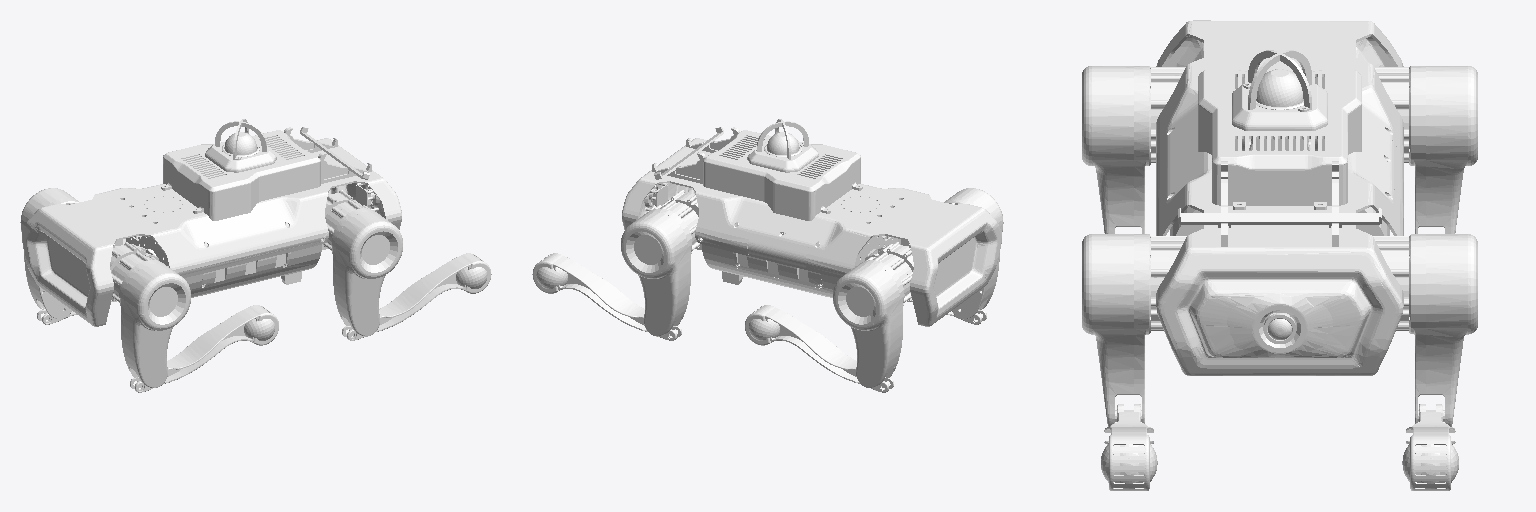
--- Facts derived from the render (not from the file) ---
The picture shows the robot from 3 angles, left to right: view 1: azimuth 30°, elevation 25°; view 2: azimuth 150°, elevation 25°; view 3: azimuth 270°, elevation 25°; orthographic projection.
Model robot with 18 links and 17 joints (12 revolute, 5 fixed), rooted at base, posed all joints at 0 but 4 set to mid-range because 0 is outside their limits (RF_KFE = -1.77, LF_KFE = -1.77, RH_KFE = -1.77, LH_KFE = -1.77).
Visible links, largest first — view 1: base, RH_thigh, RF_thigh, RH_calf, RF_calf, LH_thigh, RF_FOOT, RH_FOOT; view 2: base, LH_thigh, LF_thigh, LH_calf, LF_calf, RH_thigh, LF_FOOT, LH_FOOT; view 3: base, RF_thigh, LF_thigh, RH_thigh, LH_thigh, RF_calf, LF_calf, RF_FOOT, LF_FOOT.
Link boxes in pixels (x1,y1,x2,y2): base: (22,119,401,326); RH_thigh: (111,252,190,387); RF_thigh: (323,200,402,336); RH_calf: (130,305,278,392); RF_calf: (342,253,491,340); LH_thigh: (20,188,78,318); RF_FOOT: (456,257,487,288); RH_FOOT: (244,309,274,340); base: (622,119,1001,326); LH_thigh: (833,252,912,387); LF_thigh: (621,200,700,336); LH_calf: (745,305,893,392); LF_calf: (532,253,681,340); RH_thigh: (944,188,1003,319); LF_FOOT: (536,257,567,288); LH_FOOT: (749,309,779,340); base: (1156,20,1403,375); RF_thigh: (1082,234,1186,426); LF_thigh: (1373,234,1477,426); RH_thigh: (1082,66,1185,233); LH_thigh: (1374,66,1477,233); RF_calf: (1104,404,1153,490); LF_calf: (1406,404,1455,490); RF_FOOT: (1101,443,1157,488); LF_FOOT: (1402,443,1458,488).
Size in the robot's own frame: 0.5916 by 0.3271 by 0.2934 metres.
13 mesh visuals loaded from 6 distinct referenced files (6 binary STL).

The robot description file, URDF, robot "robot":
<?xml version="1.0" ?>
<!-- =================================================================================== -->
<!-- |    This document was autogenerated by xacro from robot_sim.xacro                | -->
<!-- |    EDITING THIS FILE BY HAND IS NOT RECOMMENDED                                 | -->
<!-- =================================================================================== -->
<robot name="robot">
  <material name="black">
    <color rgba="0.0 0.0 0.0 1.0"/>
  </material>
  <material name="blue">
    <color rgba="0.0 0.0 0.8 1.0"/>
  </material>
  <material name="green">
    <color rgba="0.0 0.8 0.0 1.0"/>
  </material>
  <material name="grey">
    <color rgba="0.2 0.2 0.2 1.0"/>
  </material>
  <material name="silver">
    <color rgba="0.9137254901960784 0.9137254901960784 0.8470588235294118 1.0"/>
  </material>
  <material name="orange">
    <color rgba="1.0 0.4235294117647059 0.0392156862745098 1.0"/>
  </material>
  <material name="brown">
    <color rgba="0.8705882352941177 0.8117647058823529 0.7647058823529411 1.0"/>
  </material>
  <material name="red">
    <color rgba="0.8 0.0 0.0 1.0"/>
  </material>
  <material name="white">
    <color rgba="1.0 1.0 1.0 1.0"/>
  </material>
  <!-- ros_control plugin -->
  <gazebo>
    <plugin filename="liblegged_hw_sim.so" name="gazebo_ros_control">
      <robotNamespace>/</robotNamespace>
      <robotParam>legged_robot_description</robotParam>
      <robotSimType>legged_gazebo/LeggedHWSim</robotSimType>
    </plugin>
  </gazebo>
  <gazebo>
    <plugin filename="libgazebo_ros_p3d.so" name="p3d_base_controller">
      <alwaysOn>true</alwaysOn>
      <updateRate>1000.0</updateRate>
      <bodyName>base</bodyName>
      <topicName>ground_truth/state</topicName>
      <gaussianNoise>0</gaussianNoise>
      <frameName>world</frameName>
      <xyzOffsets>0 0 0</xyzOffsets>
      <rpyOffsets>0 0 0</rpyOffsets>
    </plugin>
  </gazebo>
  <gazebo reference="base_link">
    <maxVel>100.</maxVel>
    <kp>10000.</kp>
    <kd>0.</kd>
  </gazebo>
  <gazebo reference="stick_link">
    <mu1>0.2</mu1>
    <mu2>0.2</mu2>
    <material>Gazebo/White</material>
  </gazebo>
  <!-- LF leg -->
  <gazebo reference="LF_hip">
    <mu1>0.2</mu1>
    <mu2>0.2</mu2>
    <material>Gazebo/DarkGrey</material>
  </gazebo>
  <gazebo reference="LF_thigh">
    <mu1>0.2</mu1>
    <mu2>0.2</mu2>
    <self_collide>1</self_collide>
    <material>Gazebo/DarkGrey</material>
    <kp value="1000000.0"/>
    <kd value="1.0"/>
  </gazebo>
  <gazebo reference="LF_calf">
    <mu1>0.2</mu1>
    <mu2>0.2</mu2>
    <self_collide>1</self_collide>
  </gazebo>
  <gazebo reference="LF_FOOT">
    <mu1>0.7</mu1>
    <mu2>0.7</mu2>
    <self_collide>1</self_collide>
    <material>Gazebo/DarkGrey</material>
    <kp value="50000.0"/>
    <kd value="5000.0"/>
  </gazebo>
  <!-- RF leg -->
  <gazebo reference="RF_hip">
    <mu1>0.2</mu1>
    <mu2>0.2</mu2>
    <material>Gazebo/DarkGrey</material>
  </gazebo>
  <gazebo reference="RF_thigh">
    <mu1>0.2</mu1>
    <mu2>0.2</mu2>
    <self_collide>1</self_collide>
    <material>Gazebo/DarkGrey</material>
    <kp value="1000000.0"/>
    <kd value="1.0"/>
  </gazebo>
  <gazebo reference="RF_calf">
    <mu1>0.2</mu1>
    <mu2>0.2</mu2>
    <self_collide>1</self_collide>
  </gazebo>
  <gazebo reference="RF_FOOT">
    <mu1>0.7</mu1>
    <mu2>0.7</mu2>
    <self_collide>1</self_collide>
    <material>Gazebo/DarkGrey</material>
    <kp value="50000.0"/>
    <kd value="5000.0"/>
  </gazebo>
  <!-- LH leg -->
  <gazebo reference="LH_hip">
    <mu1>0.2</mu1>
    <mu2>0.2</mu2>
    <material>Gazebo/DarkGrey</material>
  </gazebo>
  <gazebo reference="LH_thigh">
    <mu1>0.2</mu1>
    <mu2>0.2</mu2>
    <self_collide>1</self_collide>
    <material>Gazebo/DarkGrey</material>
    <kp value="1000000.0"/>
    <kd value="1.0"/>
  </gazebo>
  <gazebo reference="LH_calf">
    <mu1>0.2</mu1>
    <mu2>0.2</mu2>
    <self_collide>1</self_collide>
  </gazebo>
  <gazebo reference="LH_FOOT">
    <mu1>0.7</mu1>
    <mu2>0.7</mu2>
    <self_collide>1</self_collide>
    <material>Gazebo/DarkGrey</material>
    <kp value="50000.0"/>
    <kd value="5000.0"/>
  </gazebo>
  <!-- RH leg -->
  <gazebo reference="RH_hip">
    <mu1>0.2</mu1>
    <mu2>0.2</mu2>
    <material>Gazebo/DarkGrey</material>
  </gazebo>
  <gazebo reference="RH_thigh">
    <mu1>0.2</mu1>
    <mu2>0.2</mu2>
    <self_collide>1</self_collide>
    <material>Gazebo/DarkGrey</material>
    <kp value="1000000.0"/>
    <kd value="1.0"/>
  </gazebo>
  <gazebo reference="RH_calf">
    <mu1>0.2</mu1>
    <mu2>0.2</mu2>
    <self_collide>1</self_collide>
  </gazebo>
  <gazebo reference="RH_FOOT">
    <mu1>0.7</mu1>
    <mu2>0.7</mu2>
    <self_collide>1</self_collide>
    <material>Gazebo/DarkGrey</material>
    <kp value="50000.0"/>
    <kd value="5000.0"/>
  </gazebo>
  <!-- <xacro:property name="trunk_offset_z" value="0.0"/>
    <xacro:property name="hip_offset" value="0.065"/> -->
  <!-- dynamics inertial value -->
  <!-- trunk 7KG-->
  <!-- <xacro:property name="trunk_mass" value="7.182897"/>
    <xacro:property name="trunk_com_x" value="0.00011188"/>
    <xacro:property name="trunk_com_y" value="-0.00032806"/>
    <xacro:property name="trunk_com_z" value="-0.00568389"/>
    <xacro:property name="trunk_ixx" value="0.02840017"/>
    <xacro:property name="trunk_ixy" value="-0.00018028"/>
    <xacro:property name="trunk_ixz" value="0.00083306"/>
    <xacro:property name="trunk_iyy" value="0.13081473"/>
    <xacro:property name="trunk_iyz" value="0.00003820"/>
    <xacro:property name="trunk_izz" value="0.14393253"/> -->
  <!-- <xacro:property name="foot_ixx" value="0.00001086"/>
    <xacro:property name="foot_ixy" value="0"/>
    <xacro:property name="foot_ixz" value="0"/>
    <xacro:property name="foot_iyy" value="0.00001311"/>
    <xacro:property name="foot_iyz" value="0"/>
    <xacro:property name="foot_izz" value="0.00001277"/> -->
  <!-- <link name="world" />

    <joint name ="weld" type="fixed">
        <parent link="world"/>
        <child link="base"/>
        <origin xyz="0 0 1"/>
    </joint> -->
  <link name="base">
    <visual>
      <origin rpy="0 0 0" xyz="0 0 0"/>
      <geometry>
        <mesh filename="package://legged_xiaomigo_description/meshes/trunk.STL" scale="1 1 1"/>
      </geometry>
      <material name="white"/>
    </visual>
    <collision>
      <origin rpy="0 0 0" xyz="0 0 0"/>
      <geometry>
        <box size="0.238 0.18 0.14"/>
      </geometry>
    </collision>
    <inertial>
      <origin rpy="0 0 0" xyz="0.01501657 -0.00080724 0.00782378"/>
      <mass value="4.52886054"/>
      <inertia ixx="0.01883557" ixy="6.389e-05" ixz="-0.00168426" iyy="0.03900649" iyz="-0.00010767" izz="0.04256683"/>
    </inertial>
  </link>
  <!-- Imu is fixed to the base link -->
  <joint name="base_imu_joint" type="fixed">
    <origin rpy="0. 0. 0." xyz="0. 0. 0."/>
    <parent link="base"/>
    <child link="base_imu"/>
  </joint>
  <!-- Imu link -->
  <link name="base_imu">
    <inertial>
      <mass value="0.01"/>
      <origin rpy="0 0 0" xyz="0 0 0"/>
      <inertia ixx="0.000001" ixy="0" ixz="0" iyy="0.000001" iyz="0" izz="0.000001"/>
    </inertial>
    <visual>
      <origin rpy="0 0 0" xyz="0 0 0"/>
      <geometry>
        <box size="0.015 0.015 0.004"/>
      </geometry>
    </visual>
    <material name="orange">
      <color rgba="255 108 10 255"/>
    </material>
  </link>
  <gazebo reference="base_imu">
    <material>Gazebo/Orange</material>
  </gazebo>
  <gazebo reference="base_imu_joint">
    <disableFixedJointLumping>true</disableFixedJointLumping>
  </gazebo>
  <joint name="RF_HAA" type="revolute">
    <origin rpy="0 0 0" xyz="0.1645 -0.047 -0.0"/>
    <parent link="base"/>
    <child link="RF_hip"/>
    <axis xyz="1 0 0"/>
    <dynamics damping="0.01" friction="0.1"/>
    <limit effort="12.0001" lower="-0.45" upper="0.45" velocity="30.9971"/>
  </joint>
  <link name="RF_hip">
    <visual>
      <origin rpy="0 0 0" xyz="0 0 0"/>
      <!-- <origin rpy="${pi} 0 0" xyz="0 0 0"/> -->
      <geometry>
        <mesh filename="package://legged_xiaomigo_description/meshes/FR_hip_link.STL" scale="1 1 1"/>
      </geometry>
      <material name="white"/>
    </visual>
    <collision>
      <origin rpy="1.5707963267948966 0 0" xyz="0 0 0"/>
      <geometry>
        <cylinder length="0.032" radius="0.035"/>
      </geometry>
    </collision>
    <inertial>
      <origin rpy="0 0 0" xyz="-0.00220452 -0.00261069 0.00024701"/>
      <mass value="0.33715202"/>
      <inertia ixx="0.00013549" ixy="7.8e-07" ixz="-1.95e-06" iyy="0.00024234" iyz="-3.2e-07" izz="0.0001544"/>
    </inertial>
  </link>
  <joint name="RF_HFE" type="revolute">
    <!-- c -->
    <!-- <origin rpy="0 0 0" xyz="0 ${thigh_offset*mirror} 0"/> -->
    <origin rpy="0 0.0 0" xyz="0 -0.07755 0"/>
    <parent link="RF_hip"/>
    <child link="RF_thigh"/>
    <!-- <axis xyz="0 -1 0"/> -->
    <axis xyz="0 1 0"/>
    <dynamics damping="0.01" friction="0.1"/>
    <limit effort="12.0001" lower="-1" upper="1.79" velocity="30.9971"/>
  </joint>
  <link name="RF_thigh">
    <visual>
      <origin rpy="0 0 0" xyz="0 0 0"/>
      <geometry>
        <mesh filename="package://legged_xiaomigo_description/meshes/FR_thigh_link.STL" scale="1 1 1"/>
      </geometry>
      <material name="white"/>
    </visual>
    <collision>
      <origin rpy="0 1.5707963267948966 0" xyz="0 0 -0.06"/>
      <!-- <origin rpy="0 ${pi/2.0+0.1} 0" xyz="0 0 ${-thigh_length/2.0}"/> -->
      <geometry>
        <box size="0.12 0.03 0.03"/>
      </geometry>
    </collision>
    <collision>
      <origin rpy="1.5707963267948966 0 0" xyz="0 0 0"/>
      <geometry>
        <cylinder length="0.035" radius="0.035"/>
      </geometry>
    </collision>
    <inertial>
      <origin rpy="0 0 0" xyz="-0.00224629 0.01810654 -0.0115333"/>
      <mass value="0.60085484"/>
      <inertia ixx="0.00109317" ixy="-2.987e-05" ixz="-7.632e-05" iyy="0.00100816" iyz="-0.00015041" izz="0.00058746"/>
    </inertial>
  </link>
  <joint name="RF_KFE" type="revolute">
    <!-- cc -->
    <origin rpy="0 0 0" xyz="0 0 -0.12"/>
    <parent link="RF_thigh"/>
    <child link="RF_calf"/>
    <axis xyz="0 1 0"/>
    <dynamics damping="0.01" friction="0.1"/>
    <limit effort="12.0001" lower="-2.65" upper="-0.9" velocity="30.9971"/>
  </joint>
  <link name="RF_calf">
    <visual>
      <origin rpy="0 0 0" xyz="0 0 0"/>
      <geometry>
        <mesh filename="package://legged_xiaomigo_description/meshes/FL_calf_link.STL" scale="1 1 1"/>
      </geometry>
      <material name="white"/>
    </visual>
    <collision>
      <origin rpy="0 1.5707963267948966 0" xyz="0 0 -0.084253835"/>
      <geometry>
        <box size="0.16850767 0.018 0.015"/>
      </geometry>
    </collision>
    <inertial>
      <origin rpy="0 0 0" xyz="0.00037493 1.031e-05 -0.10263194"/>
      <mass value="0.14892667"/>
      <inertia ixx="0.00062803" ixy="-0.0" ixz="3.6e-05" iyy="0.00063365" iyz="-2e-07" izz="2.974e-05"/>
    </inertial>
  </link>
  <joint name="RF_foot_fixed" type="fixed">
    <origin rpy="0 0 0" xyz="0 0 -0.16850767"/>
    <parent link="RF_calf"/>
    <child link="RF_FOOT"/>
  </joint>
  <link name="RF_FOOT">
    <visual>
      <origin rpy="0 0 0" xyz="0 0 0"/>
      <geometry>
        <sphere radius="0.02360114"/>
        <!-- <mesh filename="package://legged_xiaomigo_description/meshes/$(arg robot_type)/FL_toe_link.STL" scale="1 1 1"/> -->
      </geometry>
      <material name="white"/>
    </visual>
    <collision>
      <origin rpy="0 0 0" xyz="0 0 0"/>
      <geometry>
        <sphere radius="0.02360114"/>
      </geometry>
    </collision>
    <!-- <inertial>
                <mass value="${foot_mass}"/>
                <inertia
                        ixx="${(2*foot_mass)/5.0*(foot_radius*foot_radius)}" ixy="0.0" ixz="0.0"
                        iyy="${(2*foot_mass)/5.0*(foot_radius*foot_radius)}" iyz="0.0"
                        izz="${(2*foot_mass)/5.0*(foot_radius*foot_radius)}"/>
            </inertial> -->
    <!-- <inertial>
                <mass value="${0.0}"/>
                <inertia
                        ixx="0.0" ixy="0.0" ixz="0.0"
                        iyy="0.0" iyz="0.0"
                        izz="0.0"/>
            </inertial> -->
    <inertial>
      <mass value="0.0450952"/>
      <origin rpy="0 0 0" xyz="3.045e-05 0 -0.00104172"/>
      <inertia ixx="1.09e-05" ixy="0" ixz="0" iyy="1.316e-05" iyz="0" izz="1.277e-05"/>
    </inertial>
  </link>
  <gazebo reference="RF_foot_fixed">
    <disableFixedJointLumping>true</disableFixedJointLumping>
  </gazebo>
  <transmission name="RF_HAA_tran">
    <type>transmission_interface/SimpleTransmission</type>
    <joint name="RF_HAA">
      <hardwareInterface>hardware_interface/EffortJointInterface</hardwareInterface>
    </joint>
    <actuator name="RF_HAA_motor">
      <hardwareInterface>hardware_interface/EffortJointInterface</hardwareInterface>
      <mechanicalReduction>7.75</mechanicalReduction>
    </actuator>
  </transmission>
  <transmission name="RF_HFE_tran">
    <type>transmission_interface/SimpleTransmission</type>
    <joint name="RF_HFE">
      <hardwareInterface>hardware_interface/EffortJointInterface</hardwareInterface>
    </joint>
    <actuator name="RF_HFE_motor">
      <hardwareInterface>hardware_interface/EffortJointInterface</hardwareInterface>
      <mechanicalReduction>7.75</mechanicalReduction>
    </actuator>
  </transmission>
  <transmission name="RF_KFE_tran">
    <type>transmission_interface/SimpleTransmission</type>
    <joint name="RF_KFE">
      <hardwareInterface>hardware_interface/EffortJointInterface</hardwareInterface>
    </joint>
    <actuator name="RF_KFE_motor">
      <hardwareInterface>hardware_interface/EffortJointInterface</hardwareInterface>
      <mechanicalReduction>7.75</mechanicalReduction>
    </actuator>
  </transmission>
  <joint name="LF_HAA" type="revolute">
    <origin rpy="0 0 0" xyz="0.1645 0.047 -0.0"/>
    <parent link="base"/>
    <child link="LF_hip"/>
    <axis xyz="1 0 0"/>
    <dynamics damping="0.01" friction="0.1"/>
    <limit effort="12.0001" lower="-0.45" upper="0.45" velocity="30.9971"/>
  </joint>
  <link name="LF_hip">
    <visual>
      <origin rpy="0 0 0" xyz="0 0 0"/>
      <geometry>
        <mesh filename="package://legged_xiaomigo_description/meshes/FL_hip_link.STL" scale="1 1 1"/>
      </geometry>
      <material name="white"/>
    </visual>
    <collision>
      <origin rpy="1.5707963267948966 0 0" xyz="0 0 0"/>
      <geometry>
        <cylinder length="0.032" radius="0.035"/>
      </geometry>
    </collision>
    <inertial>
      <origin rpy="0 0 0" xyz="-0.00220452 0.00261069 0.00024701"/>
      <mass value="0.33715202"/>
      <inertia ixx="0.00013549" ixy="-7.8e-07" ixz="-1.95e-06" iyy="0.00024234" iyz="3.2e-07" izz="0.0001544"/>
    </inertial>
  </link>
  <joint name="LF_HFE" type="revolute">
    <!-- c -->
    <!-- <origin rpy="0 0 0" xyz="0 ${thigh_offset*mirror} 0"/> -->
    <origin rpy="0 0.0 0" xyz="0 0.07755 0"/>
    <parent link="LF_hip"/>
    <child link="LF_thigh"/>
    <!-- <axis xyz="0 -1 0"/> -->
    <axis xyz="0 1 0"/>
    <dynamics damping="0.01" friction="0.1"/>
    <limit effort="12.0001" lower="-1" upper="1.79" velocity="30.9971"/>
  </joint>
  <link name="LF_thigh">
    <visual>
      <origin rpy="0 0 0" xyz="0 0 0"/>
      <geometry>
        <mesh filename="package://legged_xiaomigo_description/meshes/FL_thigh_link.STL" scale="1 1 1"/>
      </geometry>
      <material name="white"/>
    </visual>
    <collision>
      <origin rpy="0 1.5707963267948966 0" xyz="0 0 -0.06"/>
      <!-- <origin rpy="0 ${pi/2.0+0.1} 0" xyz="0 0 ${-thigh_length/2.0}"/> -->
      <geometry>
        <box size="0.12 0.03 0.03"/>
      </geometry>
    </collision>
    <collision>
      <origin rpy="1.5707963267948966 0 0" xyz="0 0 0"/>
      <geometry>
        <cylinder length="0.035" radius="0.035"/>
      </geometry>
    </collision>
    <inertial>
      <origin rpy="0 0 0" xyz="-0.00224629 -0.01810654 -0.0115333"/>
      <mass value="0.60085484"/>
      <inertia ixx="0.00109317" ixy="2.987e-05" ixz="-7.632e-05" iyy="0.00100816" iyz="0.00015041" izz="0.00058746"/>
    </inertial>
  </link>
  <joint name="LF_KFE" type="revolute">
    <!-- cc -->
    <origin rpy="0 0 0" xyz="0 0 -0.12"/>
    <parent link="LF_thigh"/>
    <child link="LF_calf"/>
    <axis xyz="0 1 0"/>
    <dynamics damping="0.01" friction="0.1"/>
    <limit effort="12.0001" lower="-2.65" upper="-0.9" velocity="30.9971"/>
  </joint>
  <link name="LF_calf">
    <visual>
      <origin rpy="0 0 0" xyz="0 0 0"/>
      <geometry>
        <mesh filename="package://legged_xiaomigo_description/meshes/FL_calf_link.STL" scale="1 1 1"/>
      </geometry>
      <material name="white"/>
    </visual>
    <collision>
      <origin rpy="0 1.5707963267948966 0" xyz="0 0 -0.084253835"/>
      <geometry>
        <box size="0.16850767 0.018 0.015"/>
      </geometry>
    </collision>
    <inertial>
      <origin rpy="0 0 0" xyz="0.00037493 1.031e-05 -0.10263194"/>
      <mass value="0.14892667"/>
      <inertia ixx="0.00062803" ixy="-0.0" ixz="3.6e-05" iyy="0.00063365" iyz="-2e-07" izz="2.974e-05"/>
    </inertial>
  </link>
  <joint name="LF_foot_fixed" type="fixed">
    <origin rpy="0 0 0" xyz="0 0 -0.16850767"/>
    <parent link="LF_calf"/>
    <child link="LF_FOOT"/>
  </joint>
  <link name="LF_FOOT">
    <visual>
      <origin rpy="0 0 0" xyz="0 0 0"/>
      <geometry>
        <sphere radius="0.02360114"/>
        <!-- <mesh filename="package://legged_xiaomigo_description/meshes/$(arg robot_type)/FL_toe_link.STL" scale="1 1 1"/> -->
      </geometry>
      <material name="white"/>
    </visual>
    <collision>
      <origin rpy="0 0 0" xyz="0 0 0"/>
      <geometry>
        <sphere radius="0.02360114"/>
      </geometry>
    </collision>
    <!-- <inertial>
                <mass value="${foot_mass}"/>
                <inertia
                        ixx="${(2*foot_mass)/5.0*(foot_radius*foot_radius)}" ixy="0.0" ixz="0.0"
                        iyy="${(2*foot_mass)/5.0*(foot_radius*foot_radius)}" iyz="0.0"
                        izz="${(2*foot_mass)/5.0*(foot_radius*foot_radius)}"/>
            </inertial> -->
    <!-- <inertial>
                <mass value="${0.0}"/>
                <inertia
                        ixx="0.0" ixy="0.0" ixz="0.0"
                        iyy="0.0" iyz="0.0"
                        izz="0.0"/>
            </inertial> -->
    <inertial>
      <mass value="0.0450952"/>
      <origin rpy="0 0 0" xyz="3.045e-05 0 -0.00104172"/>
      <inertia ixx="1.09e-05" ixy="0" ixz="0" iyy="1.316e-05" iyz="0" izz="1.277e-05"/>
    </inertial>
  </link>
  <gazebo reference="LF_foot_fixed">
    <disableFixedJointLumping>true</disableFixedJointLumping>
  </gazebo>
  <transmission name="LF_HAA_tran">
    <type>transmission_interface/SimpleTransmission</type>
    <joint name="LF_HAA">
      <hardwareInterface>hardware_interface/EffortJointInterface</hardwareInterface>
    </joint>
    <actuator name="LF_HAA_motor">
      <hardwareInterface>hardware_interface/EffortJointInterface</hardwareInterface>
      <mechanicalReduction>7.75</mechanicalReduction>
    </actuator>
  </transmission>
  <transmission name="LF_HFE_tran">
    <type>transmission_interface/SimpleTransmission</type>
    <joint name="LF_HFE">
      <hardwareInterface>hardware_interface/EffortJointInterface</hardwareInterface>
    </joint>
    <actuator name="LF_HFE_motor">
      <hardwareInterface>hardware_interface/EffortJointInterface</hardwareInterface>
      <mechanicalReduction>7.75</mechanicalReduction>
    </actuator>
  </transmission>
  <transmission name="LF_KFE_tran">
    <type>transmission_interface/SimpleTransmission</type>
    <joint name="LF_KFE">
      <hardwareInterface>hardware_interface/EffortJointInterface</hardwareInterface>
    </joint>
    <actuator name="LF_KFE_motor">
      <hardwareInterface>hardware_interface/EffortJointInterface</hardwareInterface>
      <mechanicalReduction>7.75</mechanicalReduction>
    </actuator>
  </transmission>
  <joint name="RH_HAA" type="revolute">
    <origin rpy="0 0 0" xyz="-0.1645 -0.047 -0.0"/>
    <parent link="base"/>
    <child link="RH_hip"/>
    <axis xyz="1 0 0"/>
    <dynamics damping="0.01" friction="0.1"/>
    <limit effort="12.0001" lower="-0.45" upper="0.45" velocity="30.9971"/>
  </joint>
  <link name="RH_hip">
    <visual>
      <origin rpy="0 0 3.141592653589793" xyz="0 0 0"/>
      <!-- <origin rpy="${pi} ${pi} 0" xyz="0 0 0"/> -->
      <geometry>
        <mesh filename="package://legged_xiaomigo_description/meshes/FL_hip_link.STL" scale="1 1 1"/>
      </geometry>
      <material name="white"/>
    </visual>
    <collision>
      <origin rpy="1.5707963267948966 0 0" xyz="0 0 0"/>
      <geometry>
        <cylinder length="0.032" radius="0.035"/>
      </geometry>
    </collision>
    <inertial>
      <origin rpy="0 0 0" xyz="0.00220452 -0.00261069 0.00024701"/>
      <mass value="0.33715202"/>
      <inertia ixx="0.00013549" ixy="-7.8e-07" ixz="1.95e-06" iyy="0.00024234" iyz="-3.2e-07" izz="0.0001544"/>
    </inertial>
  </link>
  <joint name="RH_HFE" type="revolute">
    <!-- c -->
    <!-- <origin rpy="0 0 0" xyz="0 ${thigh_offset*mirror} 0"/> -->
    <origin rpy="0 0.0 0" xyz="0 -0.07755 0"/>
    <parent link="RH_hip"/>
    <child link="RH_thigh"/>
    <!-- <axis xyz="0 -1 0"/> -->
    <axis xyz="0 1 0"/>
    <dynamics damping="0.01" friction="0.1"/>
    <limit effort="12.0001" lower="-1" upper="1.79" velocity="30.9971"/>
  </joint>
  <link name="RH_thigh">
    <visual>
      <origin rpy="0 0 0" xyz="0 0 0"/>
      <geometry>
        <mesh filename="package://legged_xiaomigo_description/meshes/FR_thigh_link.STL" scale="1 1 1"/>
      </geometry>
      <material name="white"/>
    </visual>
    <collision>
      <origin rpy="0 1.5707963267948966 0" xyz="0 0 -0.06"/>
      <!-- <origin rpy="0 ${pi/2.0+0.1} 0" xyz="0 0 ${-thigh_length/2.0}"/> -->
      <geometry>
        <box size="0.12 0.03 0.03"/>
      </geometry>
    </collision>
    <collision>
      <origin rpy="1.5707963267948966 0 0" xyz="0 0 0"/>
      <geometry>
        <cylinder length="0.035" radius="0.035"/>
      </geometry>
    </collision>
    <inertial>
      <origin rpy="0 0 0" xyz="-0.00224629 0.01810654 -0.0115333"/>
      <mass value="0.60085484"/>
      <inertia ixx="0.00109317" ixy="-2.987e-05" ixz="-7.632e-05" iyy="0.00100816" iyz="-0.00015041" izz="0.00058746"/>
    </inertial>
  </link>
  <joint name="RH_KFE" type="revolute">
    <!-- cc -->
    <origin rpy="0 0 0" xyz="0 0 -0.12"/>
    <parent link="RH_thigh"/>
    <child link="RH_calf"/>
    <axis xyz="0 1 0"/>
    <dynamics damping="0.01" friction="0.1"/>
    <limit effort="12.0001" lower="-2.65" upper="-0.9" velocity="30.9971"/>
  </joint>
  <link name="RH_calf">
    <visual>
      <origin rpy="0 0 0" xyz="0 0 0"/>
      <geometry>
        <mesh filename="package://legged_xiaomigo_description/meshes/FL_calf_link.STL" scale="1 1 1"/>
      </geometry>
      <material name="white"/>
    </visual>
    <collision>
      <origin rpy="0 1.5707963267948966 0" xyz="0 0 -0.084253835"/>
      <geometry>
        <box size="0.16850767 0.018 0.015"/>
      </geometry>
    </collision>
    <inertial>
      <origin rpy="0 0 0" xyz="0.00037493 1.031e-05 -0.10263194"/>
      <mass value="0.14892667"/>
      <inertia ixx="0.00062803" ixy="-0.0" ixz="3.6e-05" iyy="0.00063365" iyz="-2e-07" izz="2.974e-05"/>
    </inertial>
  </link>
  <joint name="RH_foot_fixed" type="fixed">
    <origin rpy="0 0 0" xyz="0 0 -0.16850767"/>
    <parent link="RH_calf"/>
    <child link="RH_FOOT"/>
  </joint>
  <link name="RH_FOOT">
    <visual>
      <origin rpy="0 0 0" xyz="0 0 0"/>
      <geometry>
        <sphere radius="0.02360114"/>
        <!-- <mesh filename="package://legged_xiaomigo_description/meshes/$(arg robot_type)/FL_toe_link.STL" scale="1 1 1"/> -->
      </geometry>
      <material name="white"/>
    </visual>
    <collision>
      <origin rpy="0 0 0" xyz="0 0 0"/>
      <geometry>
        <sphere radius="0.02360114"/>
      </geometry>
    </collision>
    <!-- <inertial>
                <mass value="${foot_mass}"/>
                <inertia
                        ixx="${(2*foot_mass)/5.0*(foot_radius*foot_radius)}" ixy="0.0" ixz="0.0"
                        iyy="${(2*foot_mass)/5.0*(foot_radius*foot_radius)}" iyz="0.0"
                        izz="${(2*foot_mass)/5.0*(foot_radius*foot_radius)}"/>
            </inertial> -->
    <!-- <inertial>
                <mass value="${0.0}"/>
                <inertia
                        ixx="0.0" ixy="0.0" ixz="0.0"
                        iyy="0.0" iyz="0.0"
                        izz="0.0"/>
            </inertial> -->
    <inertial>
      <mass value="0.0450952"/>
      <origin rpy="0 0 0" xyz="3.045e-05 0 -0.00104172"/>
      <inertia ixx="1.09e-05" ixy="0" ixz="0" iyy="1.316e-05" iyz="0" izz="1.277e-05"/>
    </inertial>
  </link>
  <gazebo reference="RH_foot_fixed">
    <disableFixedJointLumping>true</disableFixedJointLumping>
  </gazebo>
  <transmission name="RH_HAA_tran">
    <type>transmission_interface/SimpleTransmission</type>
    <joint name="RH_HAA">
      <hardwareInterface>hardware_interface/EffortJointInterface</hardwareInterface>
    </joint>
    <actuator name="RH_HAA_motor">
      <hardwareInterface>hardware_interface/EffortJointInterface</hardwareInterface>
      <mechanicalReduction>7.75</mechanicalReduction>
    </actuator>
  </transmission>
  <transmission name="RH_HFE_tran">
    <type>transmission_interface/SimpleTransmission</type>
    <joint name="RH_HFE">
      <hardwareInterface>hardware_interface/EffortJointInterface</hardwareInterface>
    </joint>
    <actuator name="RH_HFE_motor">
      <hardwareInterface>hardware_interface/EffortJointInterface</hardwareInterface>
      <mechanicalReduction>7.75</mechanicalReduction>
    </actuator>
  </transmission>
  <transmission name="RH_KFE_tran">
    <type>transmission_interface/SimpleTransmission</type>
    <joint name="RH_KFE">
      <hardwareInterface>hardware_interface/EffortJointInterface</hardwareInterface>
    </joint>
    <actuator name="RH_KFE_motor">
      <hardwareInterface>hardware_interface/EffortJointInterface</hardwareInterface>
      <mechanicalReduction>7.75</mechanicalReduction>
    </actuator>
  </transmission>
  <joint name="LH_HAA" type="revolute">
    <origin rpy="0 0 0" xyz="-0.1645 0.047 -0.0"/>
    <parent link="base"/>
    <child link="LH_hip"/>
    <axis xyz="1 0 0"/>
    <dynamics damping="0.01" friction="0.1"/>
    <limit effort="12.0001" lower="-0.45" upper="0.45" velocity="30.9971"/>
  </joint>
  <link name="LH_hip">
    <visual>
      <origin rpy="0 0 3.141592653589793" xyz="0 0 0"/>
      <!-- <origin rpy="0 ${pi} 0" xyz="0 0 0"/> -->
      <geometry>
        <mesh filename="package://legged_xiaomigo_description/meshes/FR_hip_link.STL" scale="1 1 1"/>
      </geometry>
      <material name="white"/>
    </visual>
    <collision>
      <origin rpy="1.5707963267948966 0 0" xyz="0 0 0"/>
      <geometry>
        <cylinder length="0.032" radius="0.035"/>
      </geometry>
    </collision>
    <inertial>
      <origin rpy="0 0 0" xyz="0.00220452 0.00261069 0.00024701"/>
      <mass value="0.33715202"/>
      <inertia ixx="0.00013549" ixy="7.8e-07" ixz="1.95e-06" iyy="0.00024234" iyz="3.2e-07" izz="0.0001544"/>
    </inertial>
  </link>
  <joint name="LH_HFE" type="revolute">
    <!-- c -->
    <!-- <origin rpy="0 0 0" xyz="0 ${thigh_offset*mirror} 0"/> -->
    <origin rpy="0 0.0 0" xyz="0 0.07755 0"/>
    <parent link="LH_hip"/>
    <child link="LH_thigh"/>
    <!-- <axis xyz="0 -1 0"/> -->
    <axis xyz="0 1 0"/>
    <dynamics damping="0.01" friction="0.1"/>
    <limit effort="12.0001" lower="-1" upper="1.79" velocity="30.9971"/>
  </joint>
  <link name="LH_thigh">
    <visual>
      <origin rpy="0 0 0" xyz="0 0 0"/>
      <geometry>
        <mesh filename="package://legged_xiaomigo_description/meshes/FL_thigh_link.STL" scale="1 1 1"/>
      </geometry>
      <material name="white"/>
    </visual>
    <collision>
      <origin rpy="0 1.5707963267948966 0" xyz="0 0 -0.06"/>
      <!-- <origin rpy="0 ${pi/2.0+0.1} 0" xyz="0 0 ${-thigh_length/2.0}"/> -->
      <geometry>
        <box size="0.12 0.03 0.03"/>
      </geometry>
    </collision>
    <collision>
      <origin rpy="1.5707963267948966 0 0" xyz="0 0 0"/>
      <geometry>
        <cylinder length="0.035" radius="0.035"/>
      </geometry>
    </collision>
    <inertial>
      <origin rpy="0 0 0" xyz="-0.00224629 -0.01810654 -0.0115333"/>
      <mass value="0.60085484"/>
      <inertia ixx="0.00109317" ixy="2.987e-05" ixz="-7.632e-05" iyy="0.00100816" iyz="0.00015041" izz="0.00058746"/>
    </inertial>
  </link>
  <joint name="LH_KFE" type="revolute">
    <!-- cc -->
    <origin rpy="0 0 0" xyz="0 0 -0.12"/>
    <parent link="LH_thigh"/>
    <child link="LH_calf"/>
    <axis xyz="0 1 0"/>
    <dynamics damping="0.01" friction="0.1"/>
    <limit effort="12.0001" lower="-2.65" upper="-0.9" velocity="30.9971"/>
  </joint>
  <link name="LH_calf">
    <visual>
      <origin rpy="0 0 0" xyz="0 0 0"/>
      <geometry>
        <mesh filename="package://legged_xiaomigo_description/meshes/FL_calf_link.STL" scale="1 1 1"/>
      </geometry>
      <material name="white"/>
    </visual>
    <collision>
      <origin rpy="0 1.5707963267948966 0" xyz="0 0 -0.084253835"/>
      <geometry>
        <box size="0.16850767 0.018 0.015"/>
      </geometry>
    </collision>
    <inertial>
      <origin rpy="0 0 0" xyz="0.00037493 1.031e-05 -0.10263194"/>
      <mass value="0.14892667"/>
      <inertia ixx="0.00062803" ixy="-0.0" ixz="3.6e-05" iyy="0.00063365" iyz="-2e-07" izz="2.974e-05"/>
    </inertial>
  </link>
  <joint name="LH_foot_fixed" type="fixed">
    <origin rpy="0 0 0" xyz="0 0 -0.16850767"/>
    <parent link="LH_calf"/>
    <child link="LH_FOOT"/>
  </joint>
  <link name="LH_FOOT">
    <visual>
      <origin rpy="0 0 0" xyz="0 0 0"/>
      <geometry>
        <sphere radius="0.02360114"/>
        <!-- <mesh filename="package://legged_xiaomigo_description/meshes/$(arg robot_type)/FL_toe_link.STL" scale="1 1 1"/> -->
      </geometry>
      <material name="white"/>
    </visual>
    <collision>
      <origin rpy="0 0 0" xyz="0 0 0"/>
      <geometry>
        <sphere radius="0.02360114"/>
      </geometry>
    </collision>
    <!-- <inertial>
                <mass value="${foot_mass}"/>
                <inertia
                        ixx="${(2*foot_mass)/5.0*(foot_radius*foot_radius)}" ixy="0.0" ixz="0.0"
                        iyy="${(2*foot_mass)/5.0*(foot_radius*foot_radius)}" iyz="0.0"
                        izz="${(2*foot_mass)/5.0*(foot_radius*foot_radius)}"/>
            </inertial> -->
    <!-- <inertial>
                <mass value="${0.0}"/>
                <inertia
                        ixx="0.0" ixy="0.0" ixz="0.0"
                        iyy="0.0" iyz="0.0"
                        izz="0.0"/>
            </inertial> -->
    <inertial>
      <mass value="0.0450952"/>
      <origin rpy="0 0 0" xyz="3.045e-05 0 -0.00104172"/>
      <inertia ixx="1.09e-05" ixy="0" ixz="0" iyy="1.316e-05" iyz="0" izz="1.277e-05"/>
    </inertial>
  </link>
  <gazebo reference="LH_foot_fixed">
    <disableFixedJointLumping>true</disableFixedJointLumping>
  </gazebo>
  <transmission name="LH_HAA_tran">
    <type>transmission_interface/SimpleTransmission</type>
    <joint name="LH_HAA">
      <hardwareInterface>hardware_interface/EffortJointInterface</hardwareInterface>
    </joint>
    <actuator name="LH_HAA_motor">
      <hardwareInterface>hardware_interface/EffortJointInterface</hardwareInterface>
      <mechanicalReduction>7.75</mechanicalReduction>
    </actuator>
  </transmission>
  <transmission name="LH_HFE_tran">
    <type>transmission_interface/SimpleTransmission</type>
    <joint name="LH_HFE">
      <hardwareInterface>hardware_interface/EffortJointInterface</hardwareInterface>
    </joint>
    <actuator name="LH_HFE_motor">
      <hardwareInterface>hardware_interface/EffortJointInterface</hardwareInterface>
      <mechanicalReduction>7.75</mechanicalReduction>
    </actuator>
  </transmission>
  <transmission name="LH_KFE_tran">
    <type>transmission_interface/SimpleTransmission</type>
    <joint name="LH_KFE">
      <hardwareInterface>hardware_interface/EffortJointInterface</hardwareInterface>
    </joint>
    <actuator name="LH_KFE_motor">
      <hardwareInterface>hardware_interface/EffortJointInterface</hardwareInterface>
      <mechanicalReduction>7.75</mechanicalReduction>
    </actuator>
  </transmission>
  <!-- Robot Footprint -->
  <!-- <joint name="footprint_joint" type="fixed">
        <parent link="base"/>
        <child link="base_footprint"/>
        <origin xyz="0.0 0.0 -0.2" rpy="0 0 0"/>
    </joint>

    <link name="base_footprint">
      <inertial>
      <origin xyz="0 0 0" rpy="${pi/2} 0 ${pi/2}"/>      
      <mass value="0.001"/>
      <inertia ixx="0.0" ixy="0.0" ixz="0.0" iyy="0.0" iyz="0.0" izz="0.0"/>
    </inertial>
    </link>

    <xacro:lidar parent="base" xyz="-0.065 0. 0.1" rpy="0. 0. 0."/> -->
</robot>
